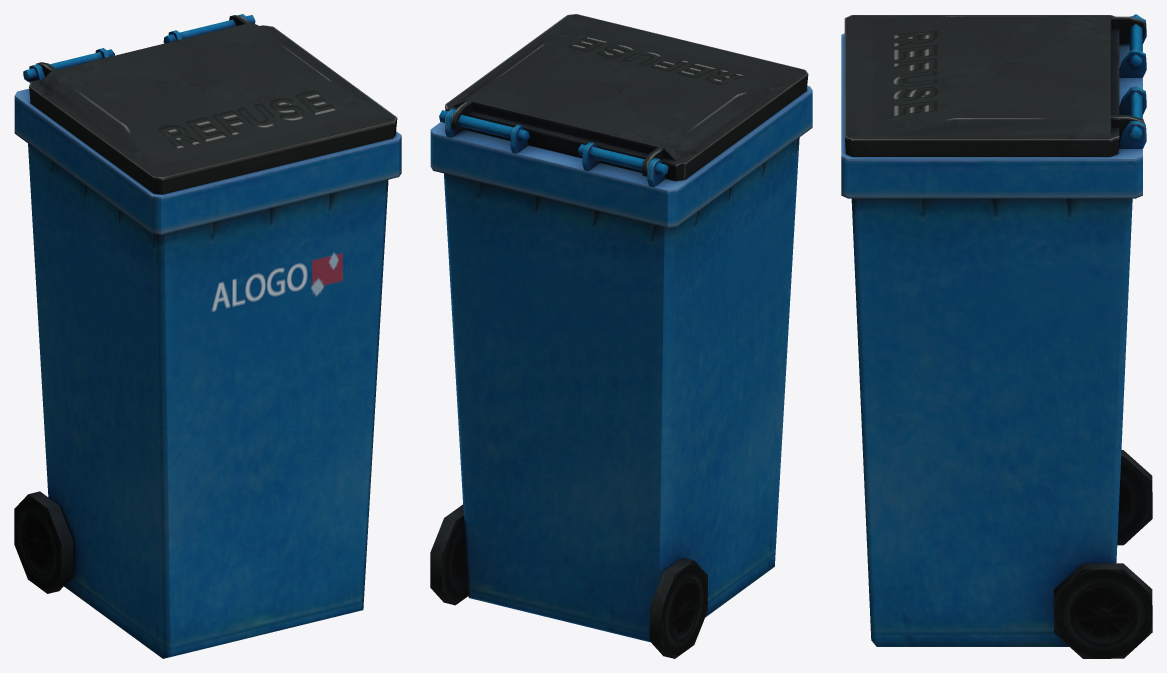
The model's file is Sun_0009_House_tall_plastic_lidded_refuse_bin.fbx.
The picture shows the model from 3 angles, left to right: view 1: azimuth 30°, elevation 25°; view 2: azimuth 150°, elevation 25°; view 3: azimuth 270°, elevation 25°; orthographic projection. The views are drawn at different scales.
Parts seen in each view (by area): view 1: Sun_0009_House_tall_plastic_lidded_refuse_bin; view 2: Sun_0009_House_tall_plastic_lidded_refuse_bin; view 3: Sun_0009_House_tall_plastic_lidded_refuse_bin.
Part boxes in pixels (box(x1,y1,x2,y2)): Sun_0009_House_tall_plastic_lidded_refuse_bin: box(14, 14, 401, 658); Sun_0009_House_tall_plastic_lidded_refuse_bin: box(430, 14, 812, 658); Sun_0009_House_tall_plastic_lidded_refuse_bin: box(841, 14, 1152, 658).
Size of the model in its own units: 61.97 by 121 by 63.96.
